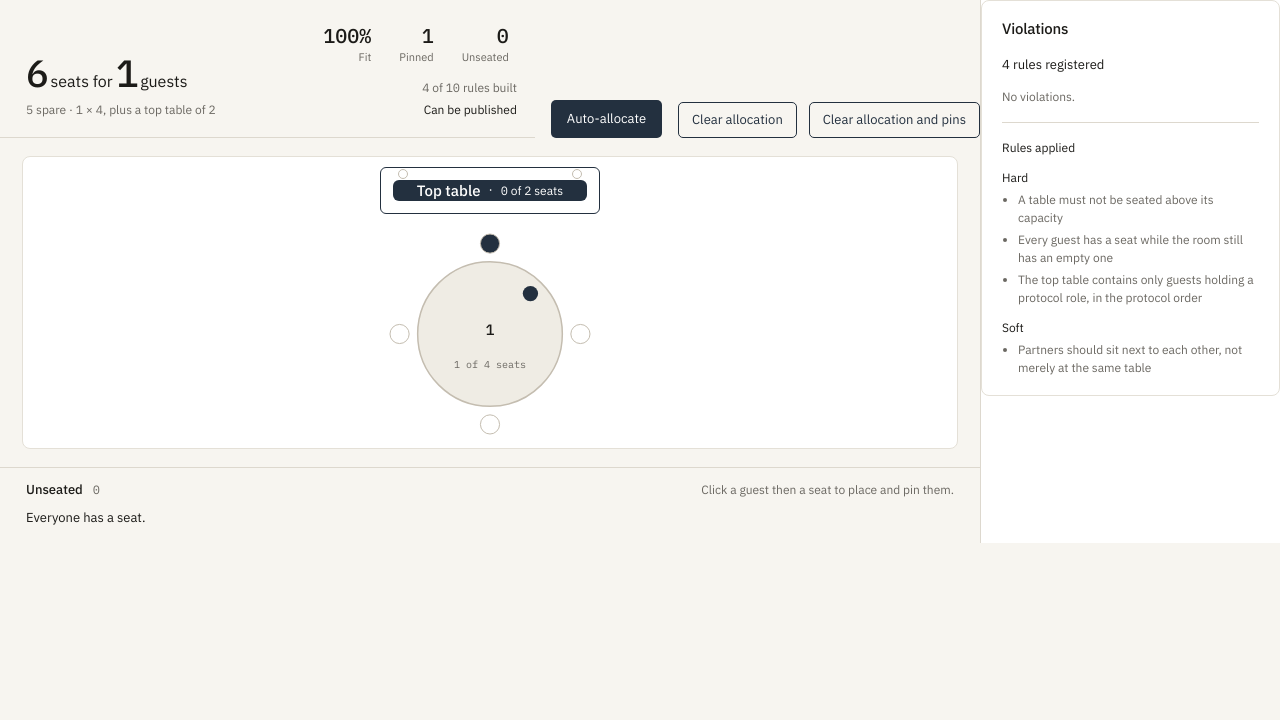
it: PlanScreen — releasing a pinned guest › releasing the only pinned guest returns them to the rail, drops the table to zero seats, and clears data-pinned entirely rather than to "false"
Click the button "1 1 of 4 seats" at [490, 334], box x1=390 y1=234 x2=590 y2=434
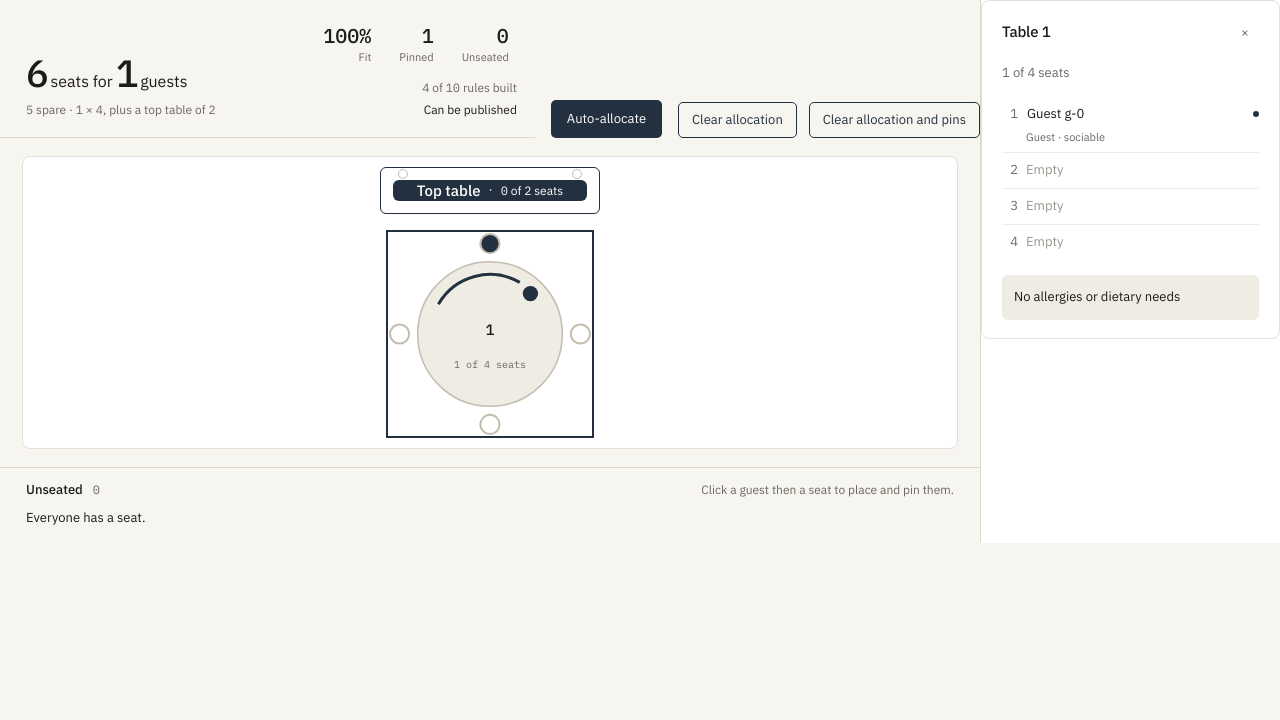
Click the button named "Release Guest g-0 from" at [1056, 114], box x1=1026 y1=103 x2=1085 y2=126
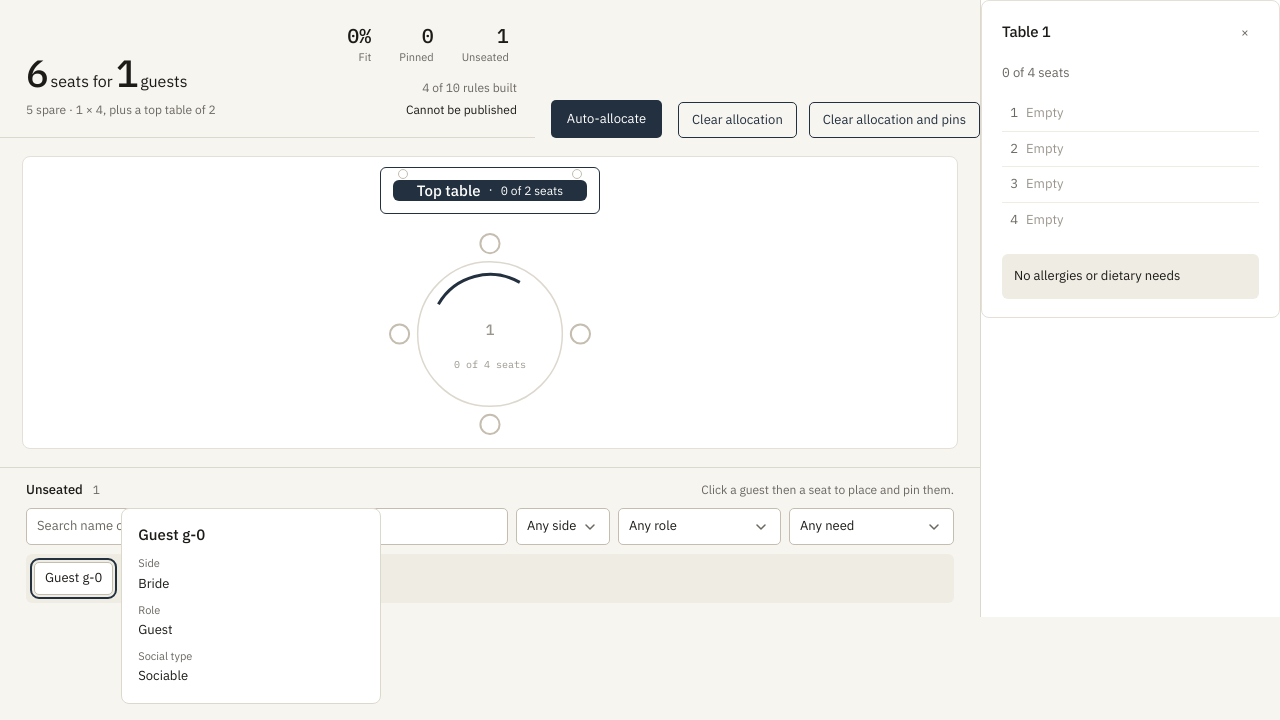
Result: the button "Guest g-0" is shown at x1=34 y1=562 x2=113 y2=595
Result: the list item "1 0 of 4 seats" is shown at x1=390 y1=234 x2=590 y2=434
